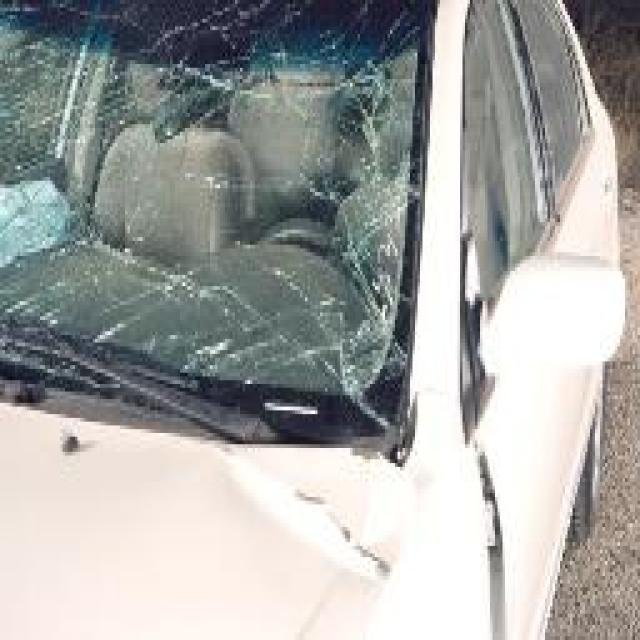Bonnet: (202, 422, 392, 591)
Fender: (392, 418, 480, 640)
Windshield: (2, 0, 395, 407)
